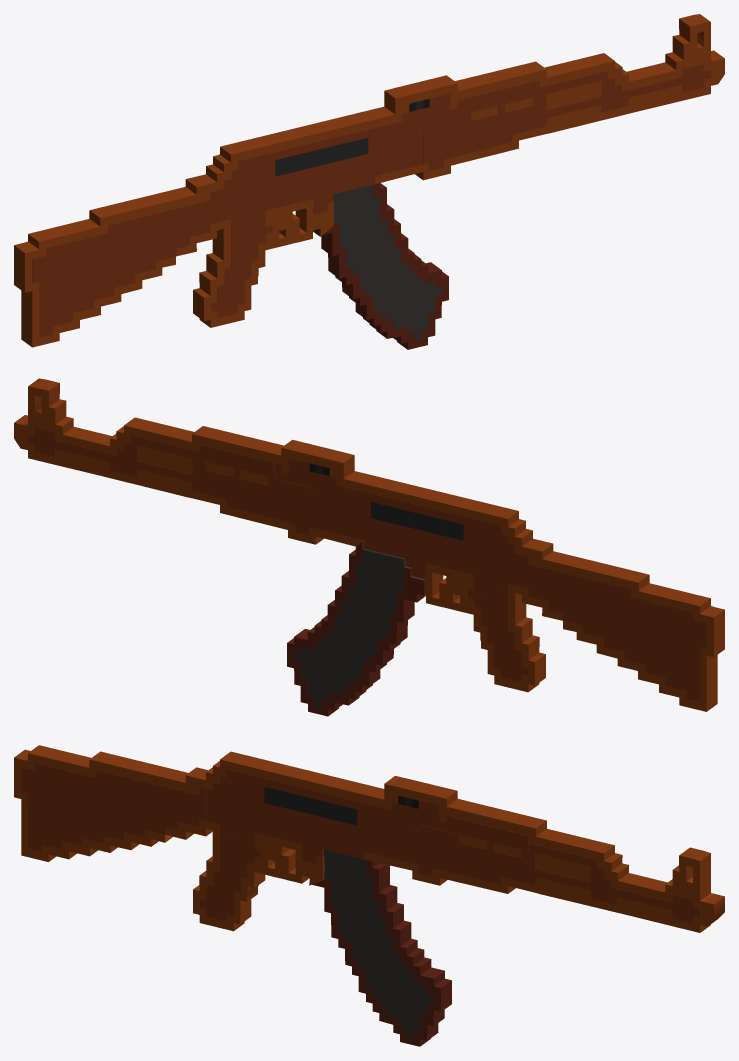
Rendered from gun 3.fbx.
3 views of the same model, one above another, from view 1: azimuth 30°, elevation 25°; view 2: azimuth 150°, elevation 25°; view 3: azimuth 330°, elevation 25° (orthographic).
Parts seen in each view (by area): view 1: Cube, Cube_001_Cube_002; view 2: Cube, Cube_001_Cube_002; view 3: Cube, Cube_001_Cube_002.
Part boxes in pixels (x1,y1,x2,y2): Cube: (14,14,724,347); Cube_001_Cube_002: (313,183,448,349); Cube: (14,378,724,711); Cube_001_Cube_002: (287,541,425,716); Cube: (14,745,724,932); Cube_001_Cube_002: (312,849,451,1046).
Size of the model in its own units: 9.05 by 3.16 by 0.2848.
